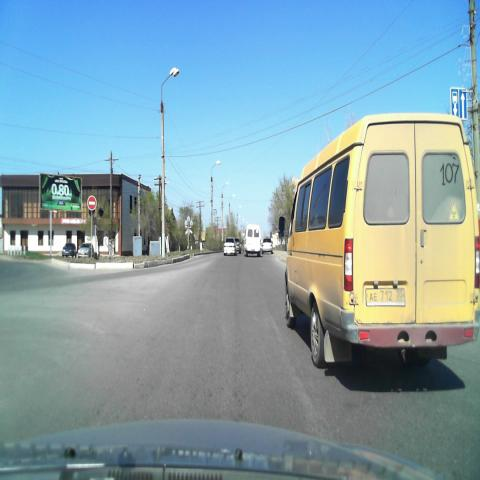3_1: (86, 194, 98, 212)
5_11: (450, 88, 468, 120)
